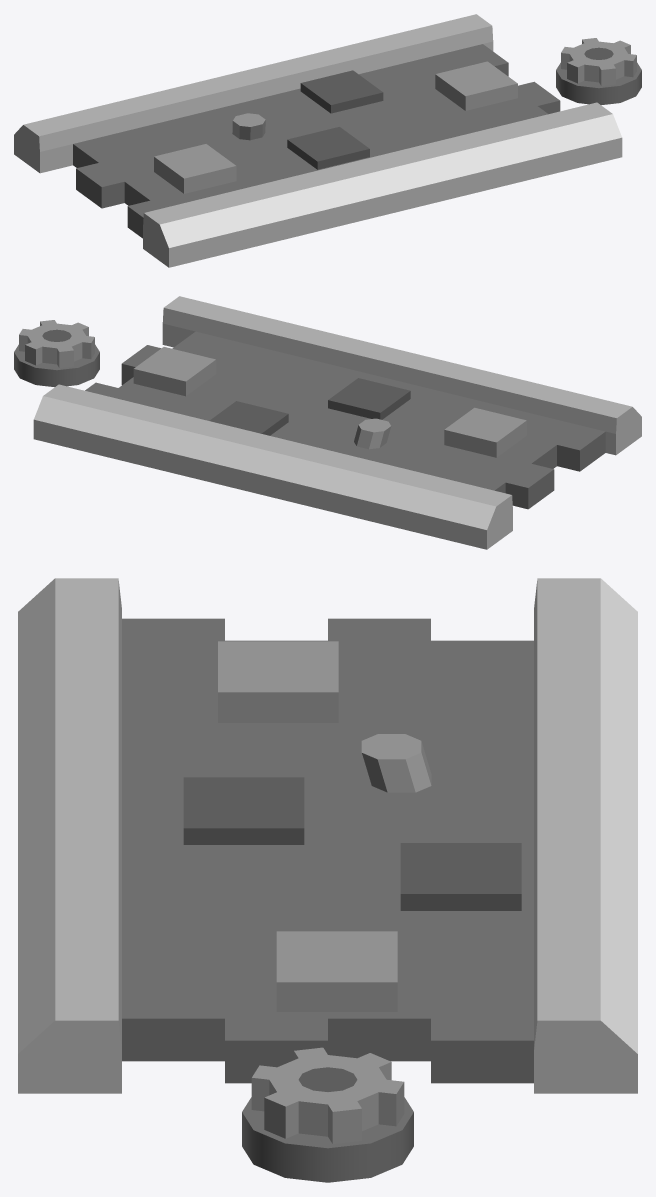
The model's file is newlineMesh.fbx.
3 renders of one model, top to bottom at view 1: azimuth 30°, elevation 25°; view 2: azimuth 150°, elevation 25°; view 3: azimuth 270°, elevation 25°, orthographic. The views are drawn at different scales.
Parts seen in each view (by area): view 1: newLineMesh; view 2: newLineMesh; view 3: newLineMesh.
Part boxes in pixels (left/top/right/bottom): newLineMesh: left=14, top=14, right=641, bottom=267; newLineMesh: left=14, top=296, right=641, bottom=549; newLineMesh: left=18, top=578, right=637, bottom=1182.
Bounding box in the file's own units: 481 × 31.16 × 237.
